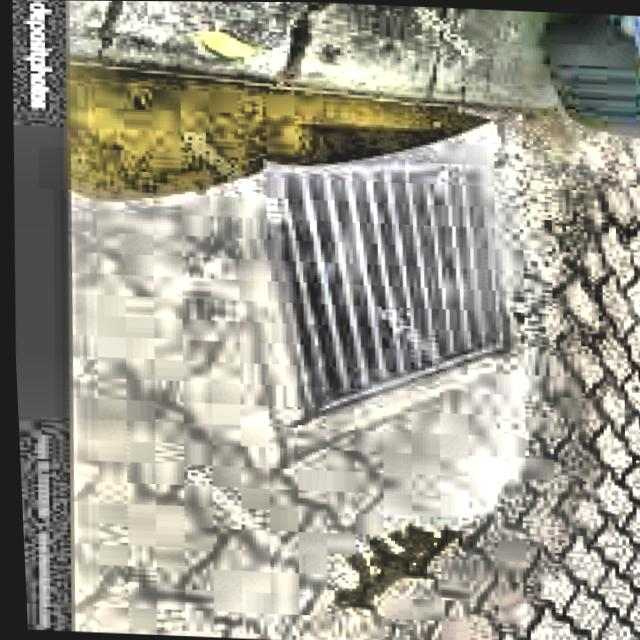Alligator Cracks: (264, 158, 506, 422)
